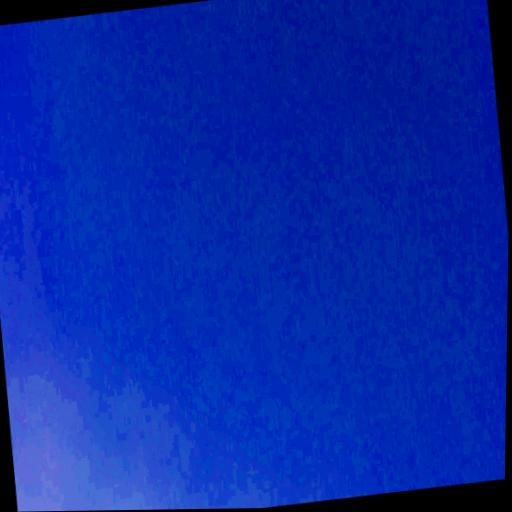drones: (302, 343, 305, 348)
